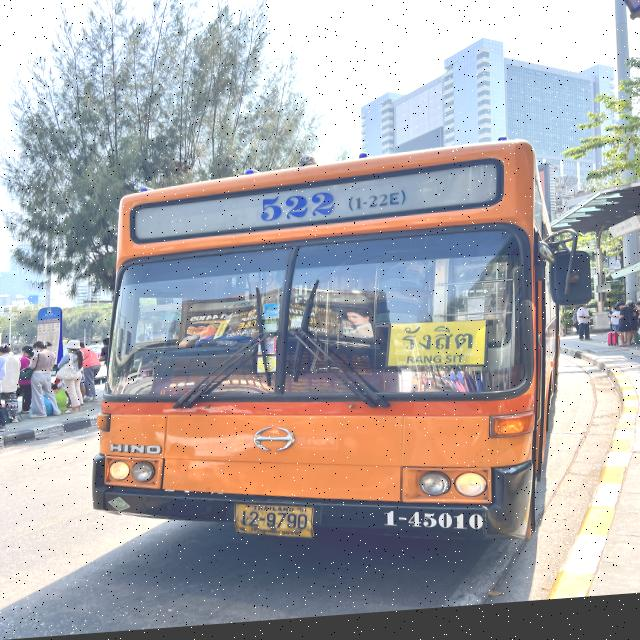BMTA-bus: (92, 146, 560, 574)
Bus-Line-Number: (253, 189, 412, 230)
Destination-Sign-Normal-Expressway: (388, 322, 488, 381)
